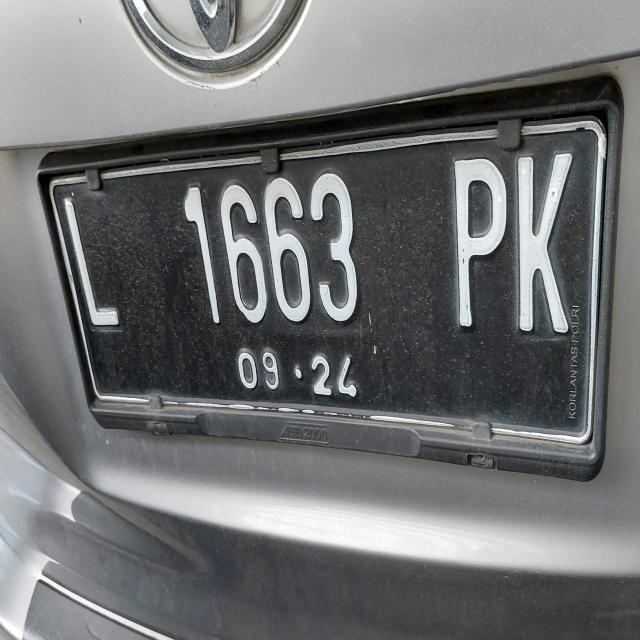1: (172, 173, 236, 344)
3: (306, 168, 372, 326)
6: (258, 166, 319, 330), (214, 170, 274, 334)
K: (510, 134, 576, 352)
L: (54, 185, 130, 352)
P: (438, 134, 516, 336)
